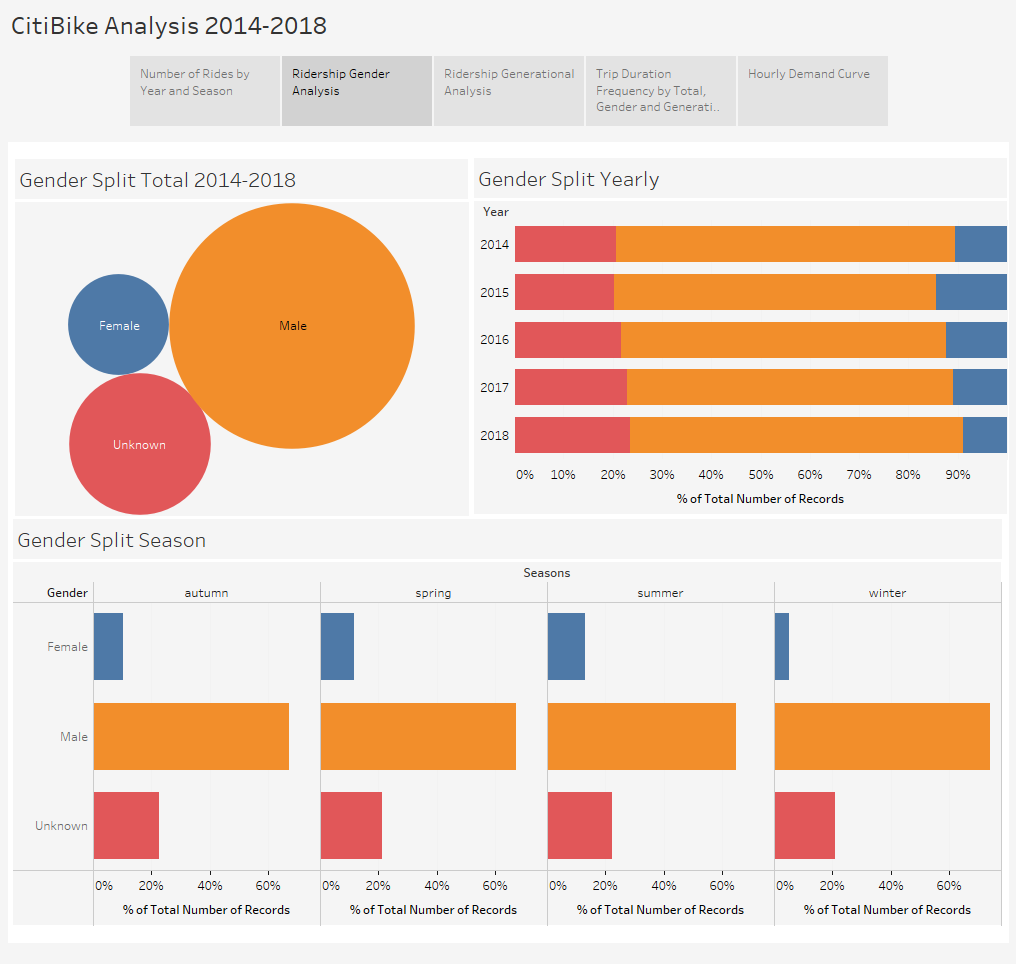

This screenshot's page, from the dashboard's own definition file:
{"tool":"tableau","page":{"name":"Dashboard 3","canvas":[1000,800],"ordinal":1},"visuals":[{"type":"worksheet","title":"Gender Split Yearly","mark":"Automatic","rows":["Year"],"box":[466,16,533,356]},{"type":"worksheet","title":"Gender Split Total","mark":"Circle","box":[7,17,453,356]},{"type":"worksheet","title":"Gender Split Season","mark":"Automatic","rows":["gender"],"cols":["Seasons"],"box":[5,377,989,407]}]}

Visuals, with their boxes on the page's 1000x800 design canvas (x1, y1, x2, y2). These are canvas units, not pixel positions in the 1016x964 screenshot, which may show the page scaled, cropped or inside an application window:
"Gender Split Yearly" worksheet: crop(466, 16, 999, 372)
"Gender Split Total" worksheet (Circle marks): crop(7, 17, 460, 373)
"Gender Split Season" worksheet: crop(5, 377, 994, 784)
